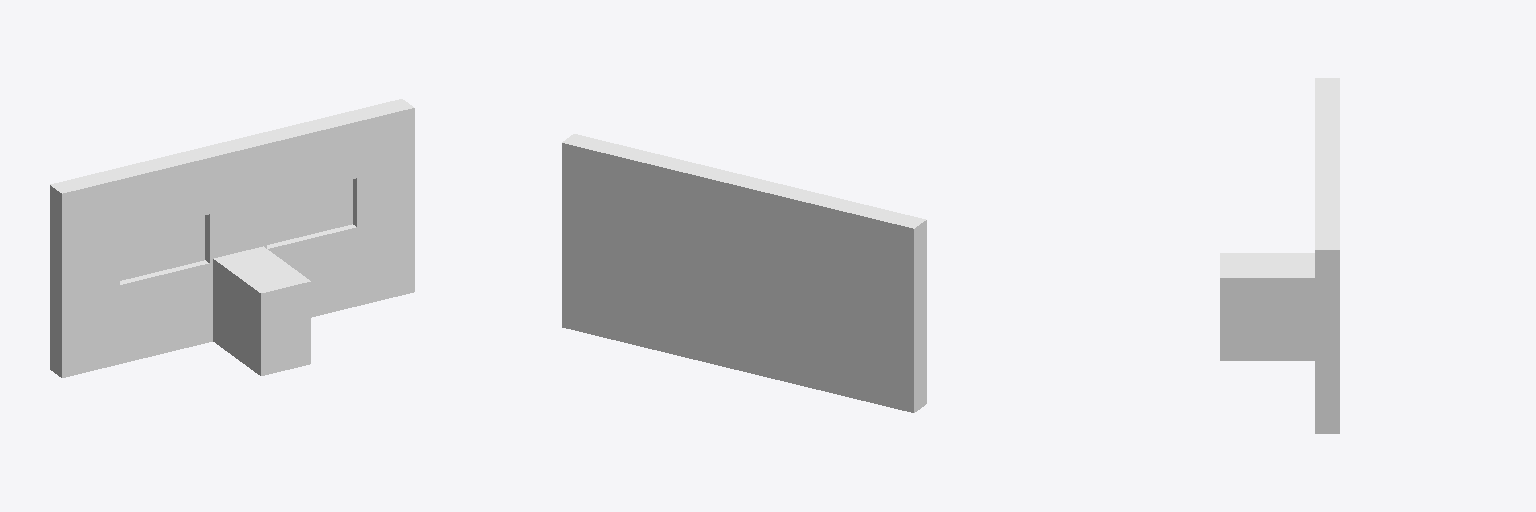
Rendered from PulcinellaMask.obj.
The picture shows the model from 3 angles: view 1: azimuth 30°, elevation 25°; view 2: azimuth 150°, elevation 25°; view 3: azimuth 270°, elevation 25°; orthographic projection.
Visible parts, largest first — view 1: object 1; view 2: object 1; view 3: object 1.
Part boxes in pixels (left/top/right/bottom): object 1: left=50, top=99, right=414, bottom=377; object 1: left=562, top=134, right=926, bottom=412; object 1: left=1220, top=78, right=1339, bottom=433.
Bounding box in the file's own units: 9.8 × 4.9 × 2.9.